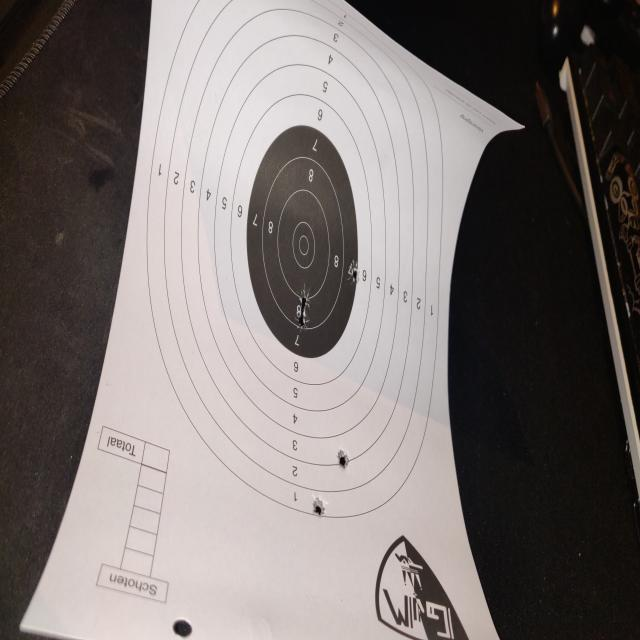1: (311, 494, 327, 520)
3: (336, 449, 350, 469)
7: (348, 258, 363, 292)
8: (296, 312, 310, 330)
9: (298, 288, 310, 310)
Target: (148, 0, 443, 522)
black_contour: (246, 123, 358, 359)
